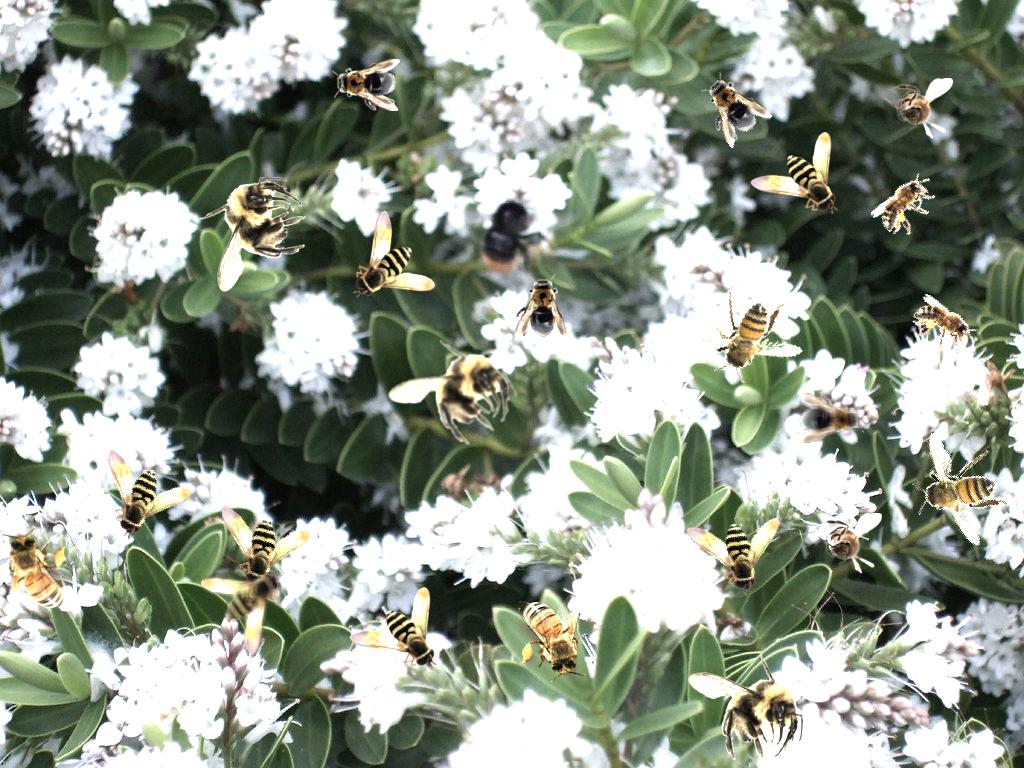Bee: (375, 318, 530, 469), (884, 413, 1024, 559), (676, 275, 807, 395), (198, 473, 318, 595), (82, 424, 198, 542), (671, 484, 789, 598), (199, 177, 306, 292), (688, 654, 803, 761), (689, 64, 773, 150), (353, 210, 435, 298), (349, 587, 437, 669), (201, 570, 283, 658), (750, 132, 838, 214), (1, 528, 69, 621), (518, 589, 586, 682), (868, 163, 946, 244), (905, 292, 985, 361), (883, 78, 953, 139), (812, 513, 882, 574), (332, 59, 400, 111), (515, 274, 567, 342), (796, 392, 864, 444)
